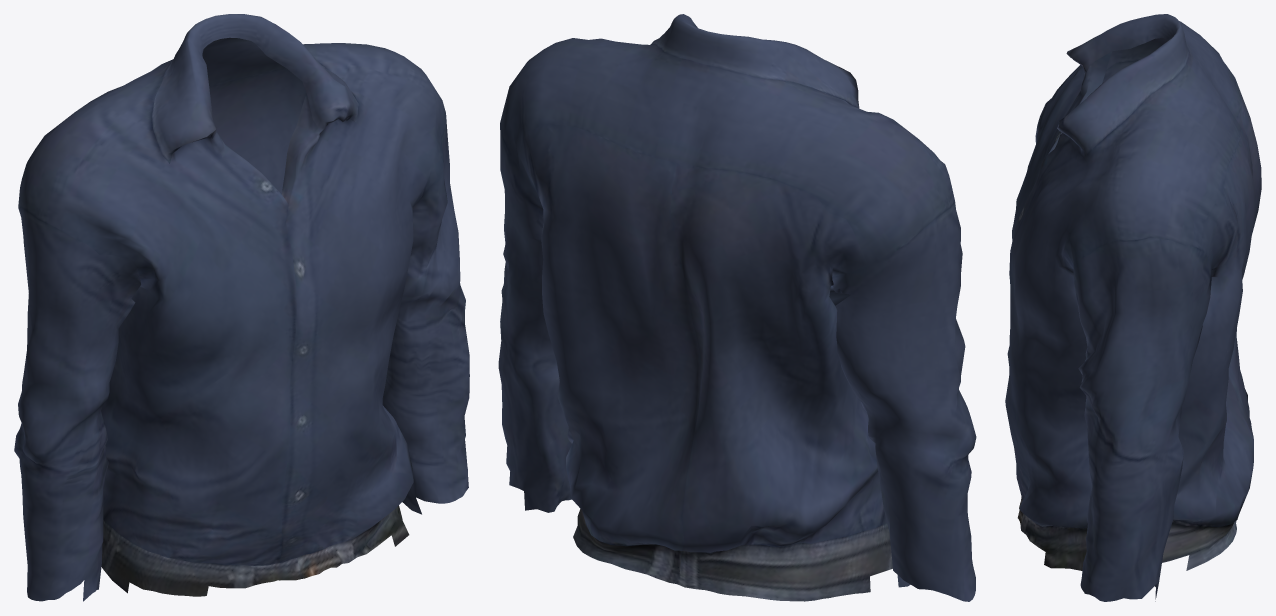
File: top_formal_shirt.gltf
3 views of the same model, side by side, from view 1: azimuth 30°, elevation 25°; view 2: azimuth 150°, elevation 25°; view 3: azimuth 270°, elevation 25° (orthographic). The views are drawn at different scales.
Visible parts, largest first — view 1: top_formal_shirt; view 2: top_formal_shirt; view 3: top_formal_shirt.
Part boxes in pixels (x1,y1,x2,y2): top_formal_shirt: [14, 14, 469, 601]; top_formal_shirt: [498, 14, 976, 601]; top_formal_shirt: [1005, 14, 1261, 601].
Bounding box in the file's own units: 0.5111 × 0.5636 × 0.2678.
Materials: 1 (1 with a texture image).
